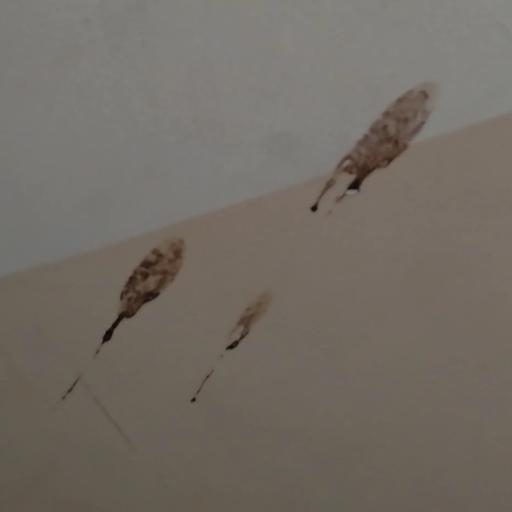stain: (42, 233, 299, 446), (299, 46, 438, 241)
